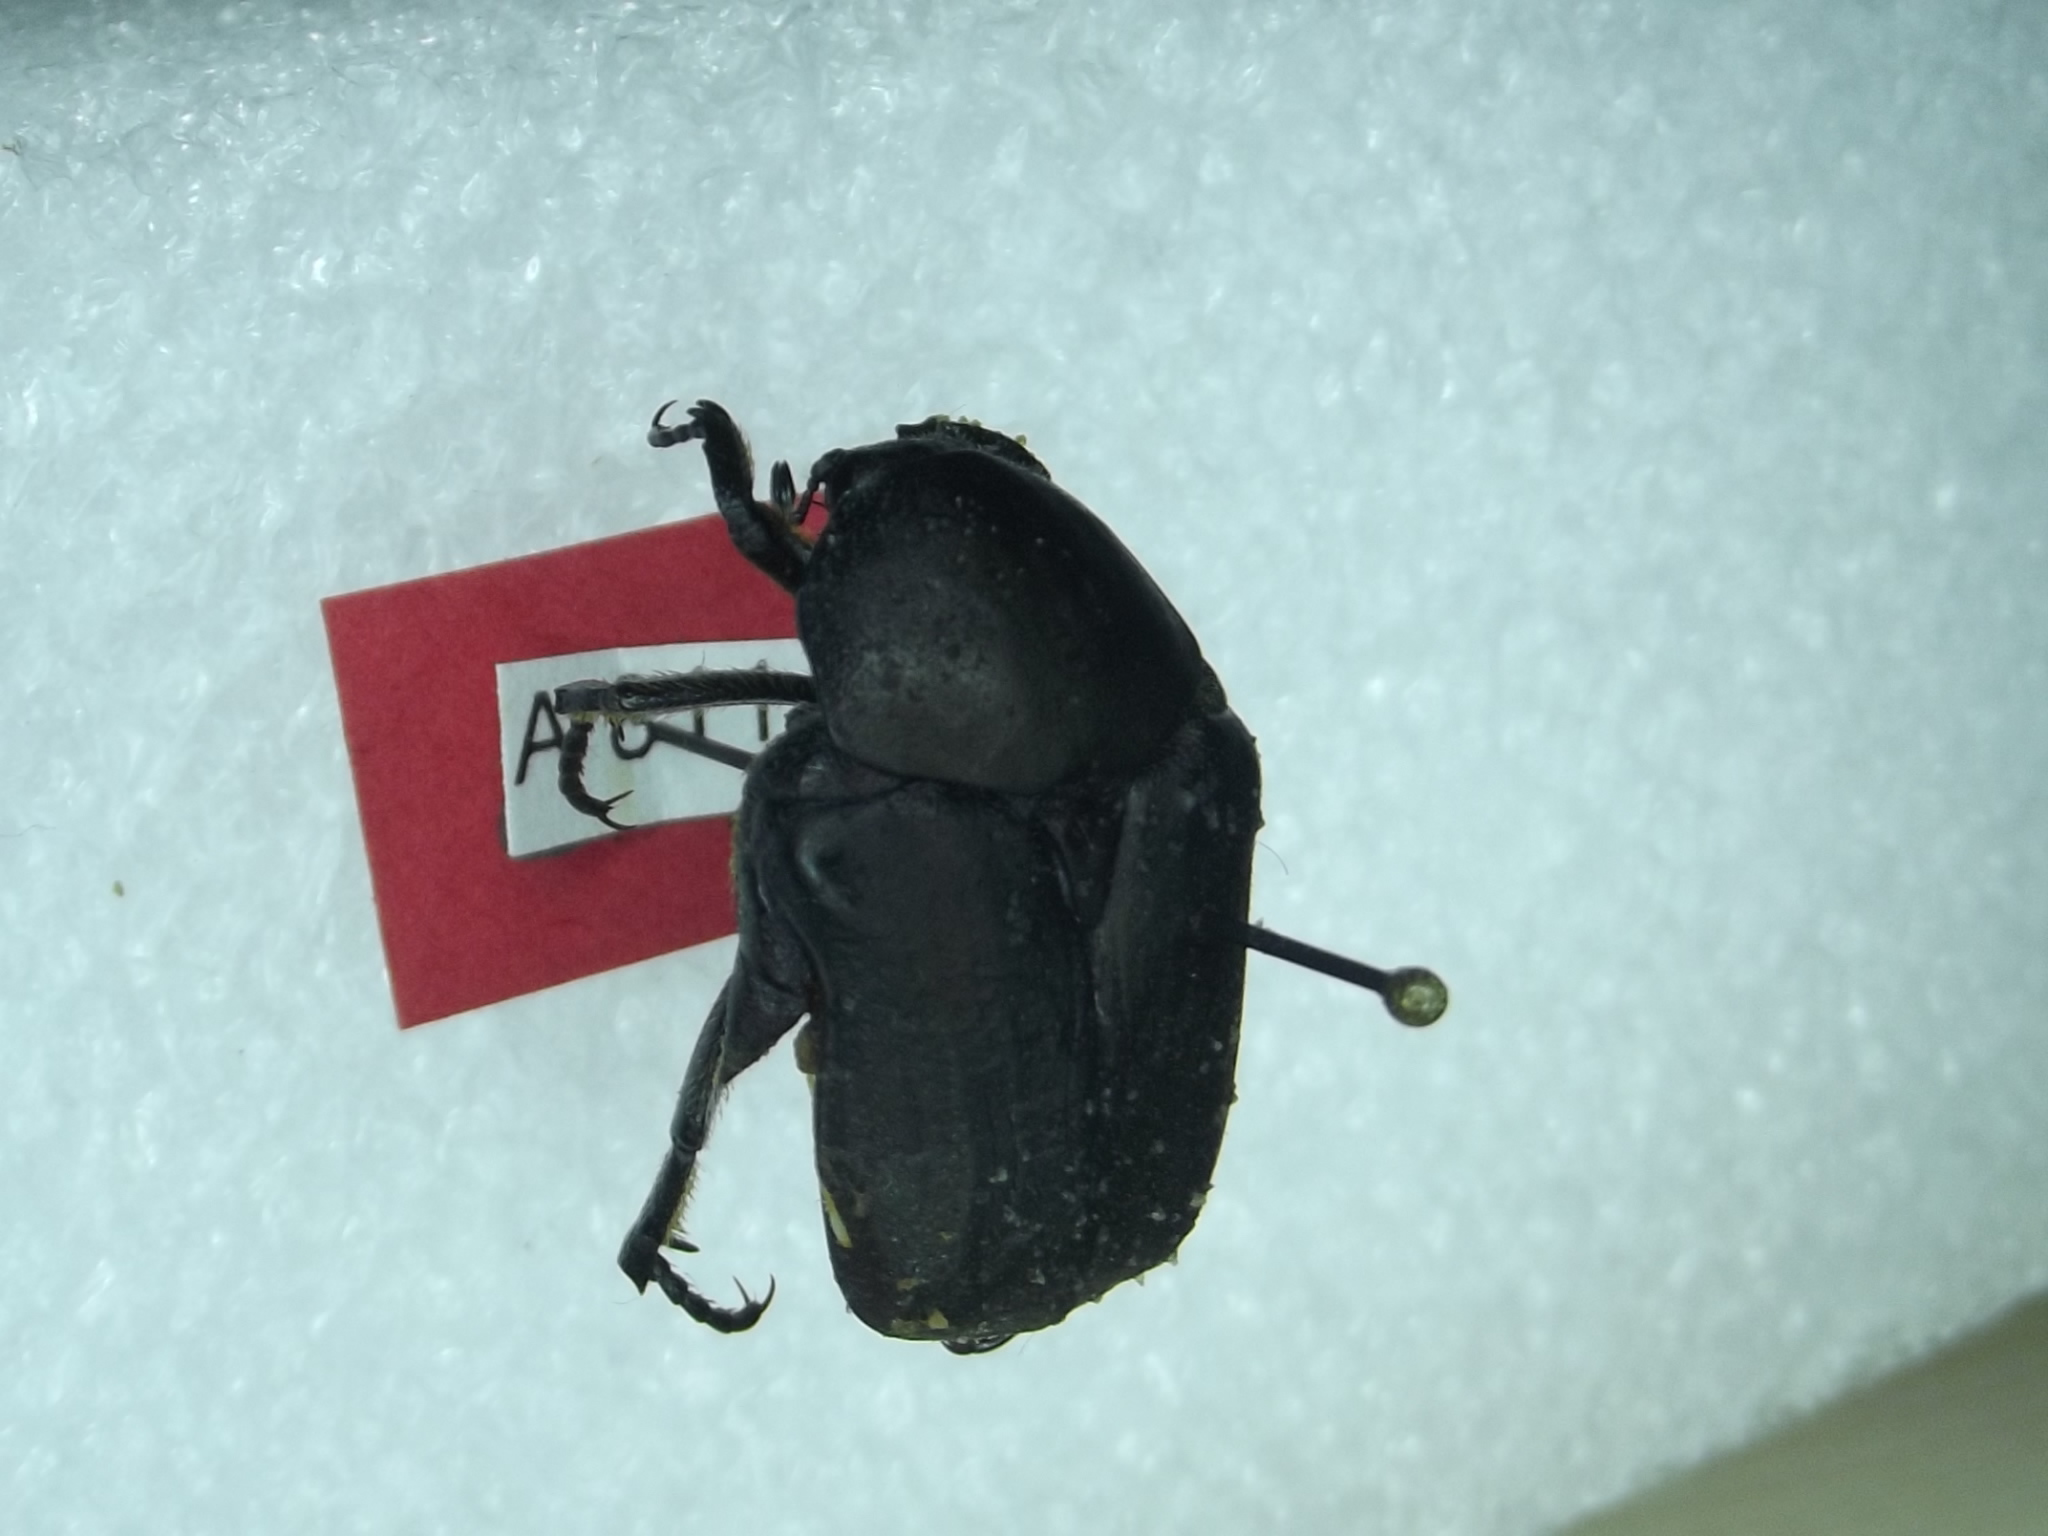Protaetia_oblonga: (590, 360, 1285, 1442)
